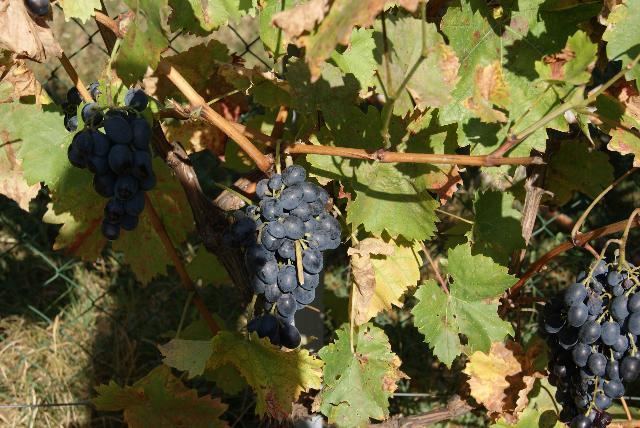grapes: (222, 165, 341, 349), (541, 264, 640, 428), (69, 114, 156, 240)
